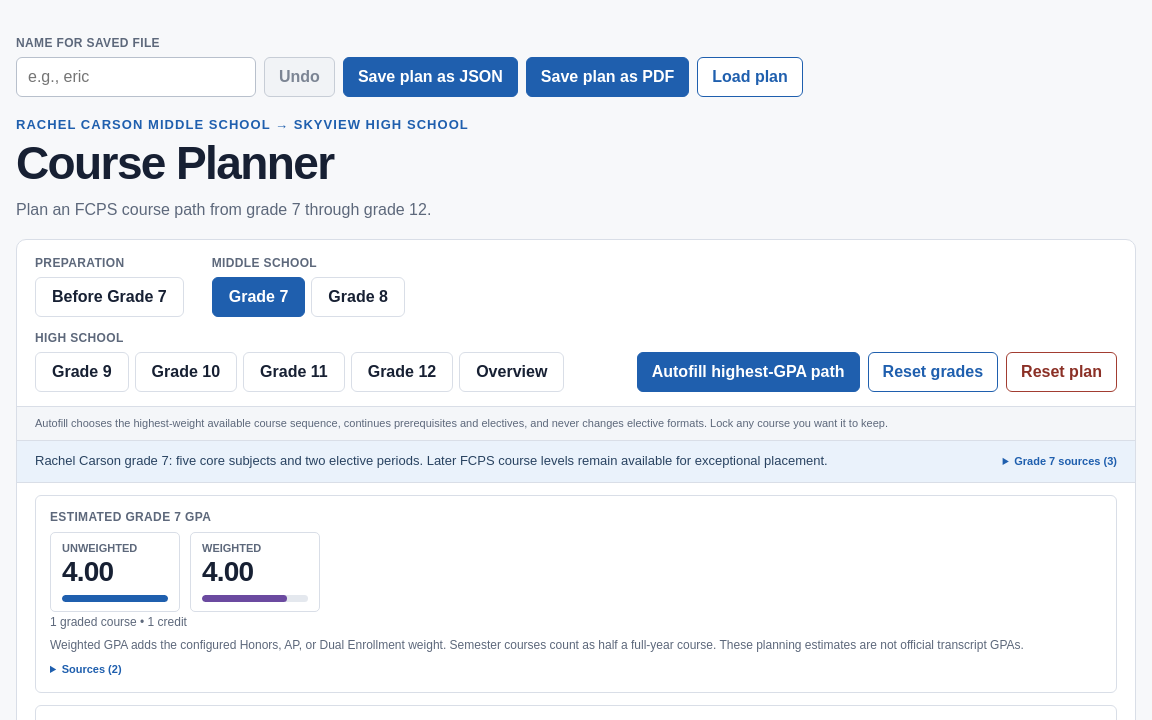
it: device-local persistence, reset, and undo › resets only grades while preserving courses and locks, then restores grades with Undo
Click the button "Reset grades": click(933, 372) top-left (868, 352), bottom-right (998, 392)
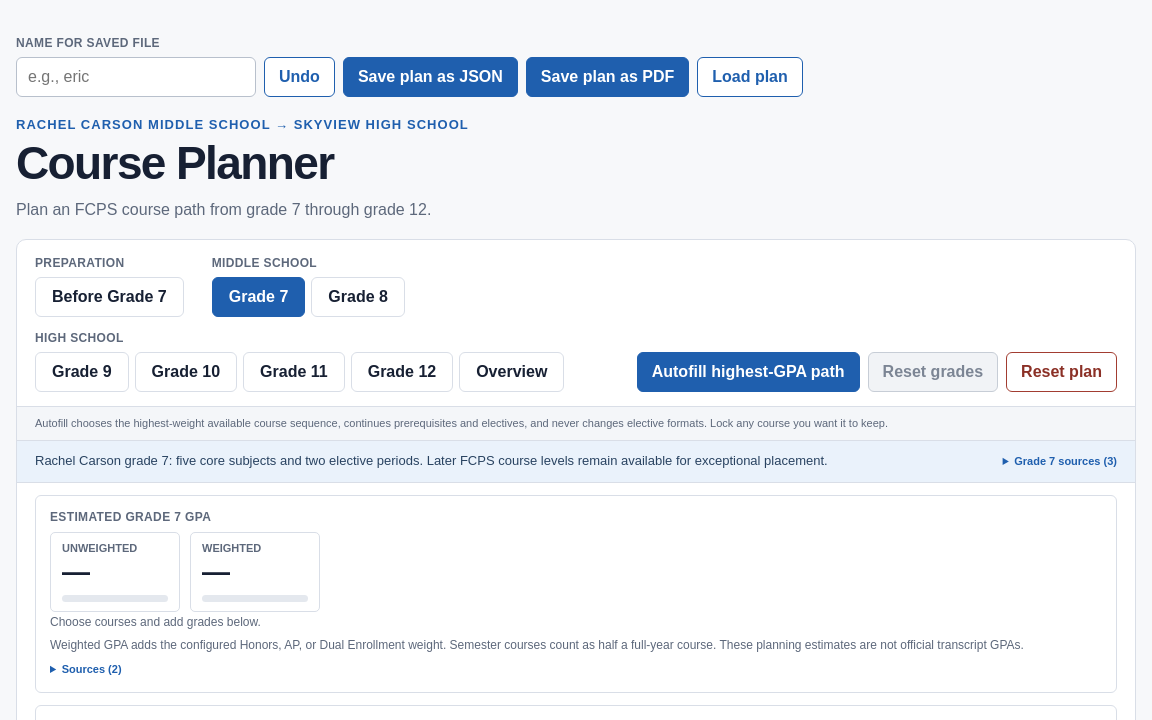
Expected: the button "Reset grades" is disabled, top-left (868, 352), bottom-right (998, 392)
Click the button "Undo": click(299, 77) top-left (264, 57), bottom-right (335, 97)
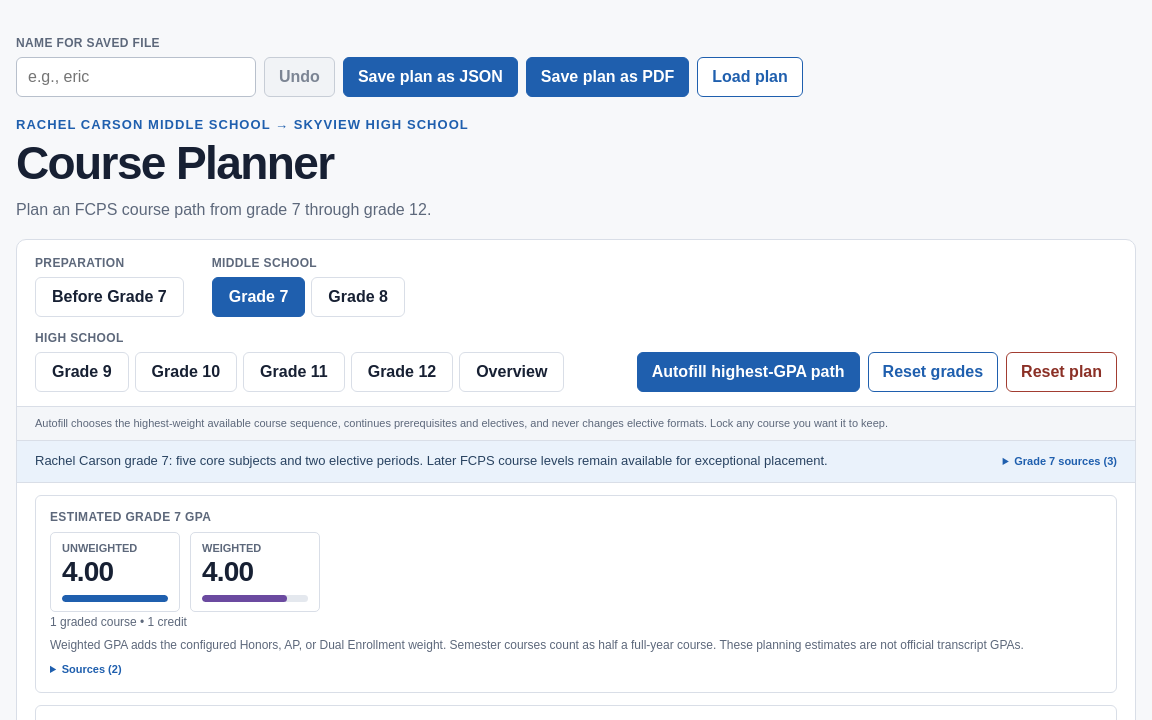
Expected: the button "Reset grades" is enabled, top-left (868, 352), bottom-right (998, 392)
